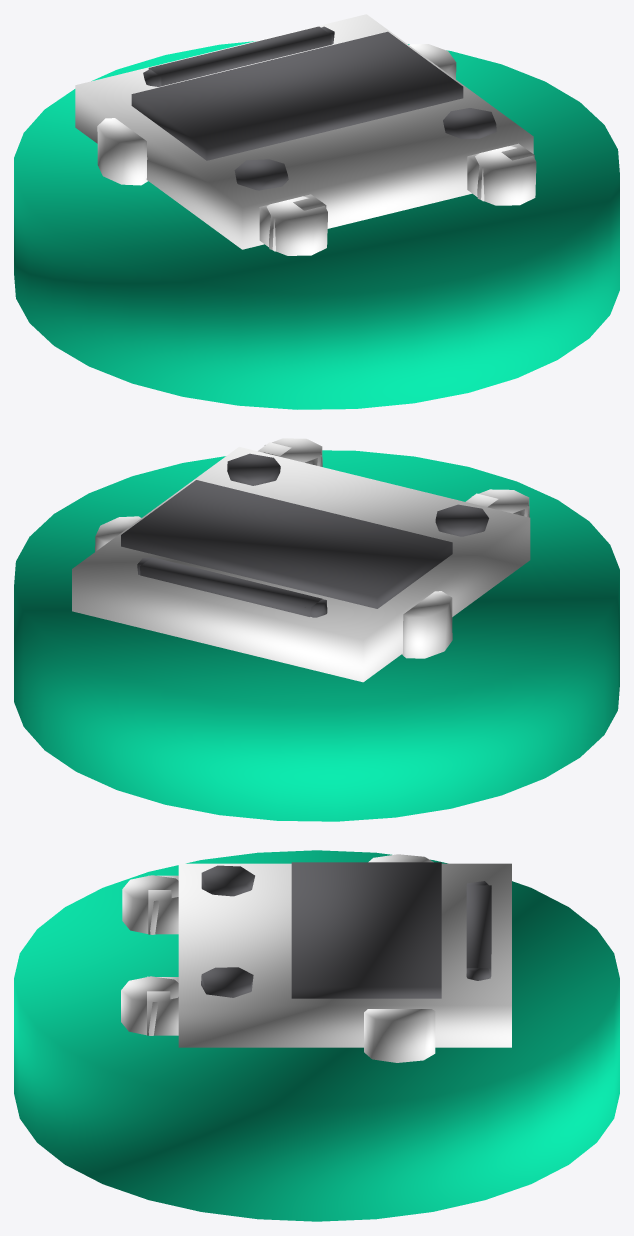
File: busStopLow.glb
3 renders of one model, top to bottom at view 1: azimuth 30°, elevation 25°; view 2: azimuth 150°, elevation 25°; view 3: azimuth 270°, elevation 25°, orthographic.
Parts seen in each view (by area): view 1: Node2, Mesh0_1, Mesh0_0; view 2: Node2, Mesh0_1, Mesh0_0; view 3: Node2, Mesh0_1, Mesh0_0.
Part boxes in pixels (left/top/right/bottom): Node2: left=14, top=41, right=619, bottom=409; Mesh0_1: left=75, top=14, right=536, bottom=255; Mesh0_0: left=131, top=26, right=496, bottom=190; Node2: left=14, top=450, right=619, bottom=821; Mesh0_1: left=72, top=438, right=530, bottom=682; Mesh0_0: left=121, top=453, right=488, bottom=617; Node2: left=14, top=850, right=619, bottom=1221; Mesh0_1: left=121, top=854, right=511, bottom=1062; Mesh0_0: left=201, top=862, right=491, bottom=998.
Size of the model in its own units: 2.6 by 0.812 by 2.6.
